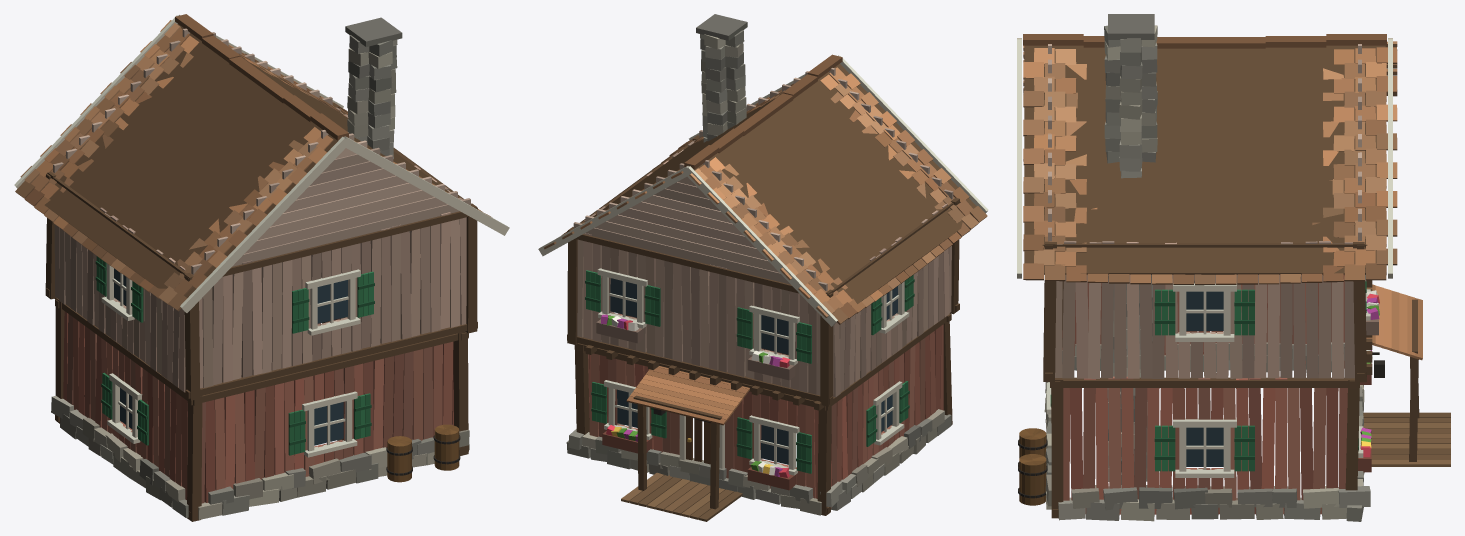
Rendered from sobrado_2.glb.
3 views of the same model, side by side, from view 1: azimuth 30°, elevation 25°; view 2: azimuth 150°, elevation 25°; view 3: azimuth 270°, elevation 25° (orthographic). The views are drawn at different scales.
Parts seen in each view (by area): view 1: Madeira, Telhado, Pedra, Vidro; view 2: Madeira, Telhado, Pedra, Vidro; view 3: Madeira, Telhado, Pedra, Vidro, Ferro.
Boxes of the visible parts, x1,y1,x2,y2 form: Madeira: (14,15,509,521); Telhado: (15,14,492,311); Pedra: (51,17,469,519); Vidro: (114,268,347,445); Madeira: (538,55,988,521); Telhado: (544,54,987,425); Pedra: (566,14,951,515); Vidro: (610,278,897,464); Madeira: (1017,38,1450,518); Telhado: (1023,34,1422,360); Pedra: (1044,14,1379,521); Vidro: (1186,291,1223,466); Ferro: (1018,352,1384,498).
Size of the model in its own units: 8.73 by 10.39 by 8.82.
